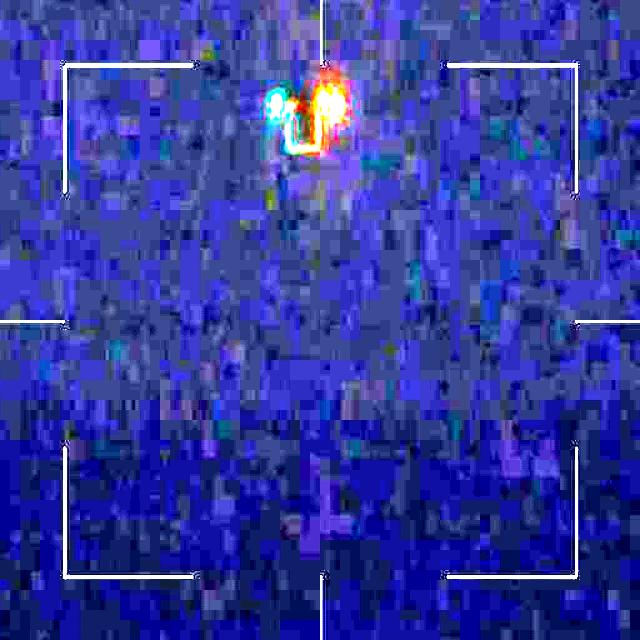bird: (266, 84, 346, 155)
